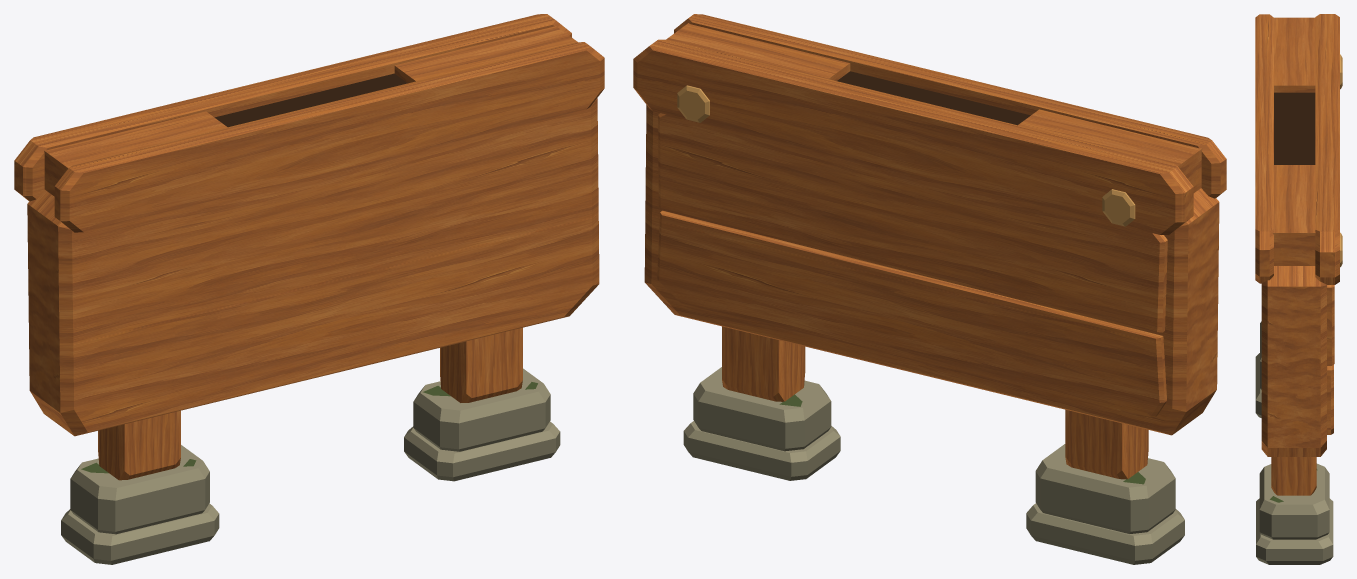
The model's file is guide_sign.obj.
3 views of the same model, side by side, from view 1: azimuth 30°, elevation 25°; view 2: azimuth 150°, elevation 25°; view 3: azimuth 270°, elevation 25° (orthographic). The views are drawn at different scales.
Visible parts, largest first — view 1: GuideSign; view 2: GuideSign; view 3: GuideSign.
Part boxes in pixels (x1,y1,x2,y2): GuideSign: (14, 14, 604, 564); GuideSign: (633, 14, 1226, 564); GuideSign: (1255, 14, 1342, 564).
Size of the model in its own units: 2.36 by 1.65 by 0.378.
8 materials, 3 textured.
